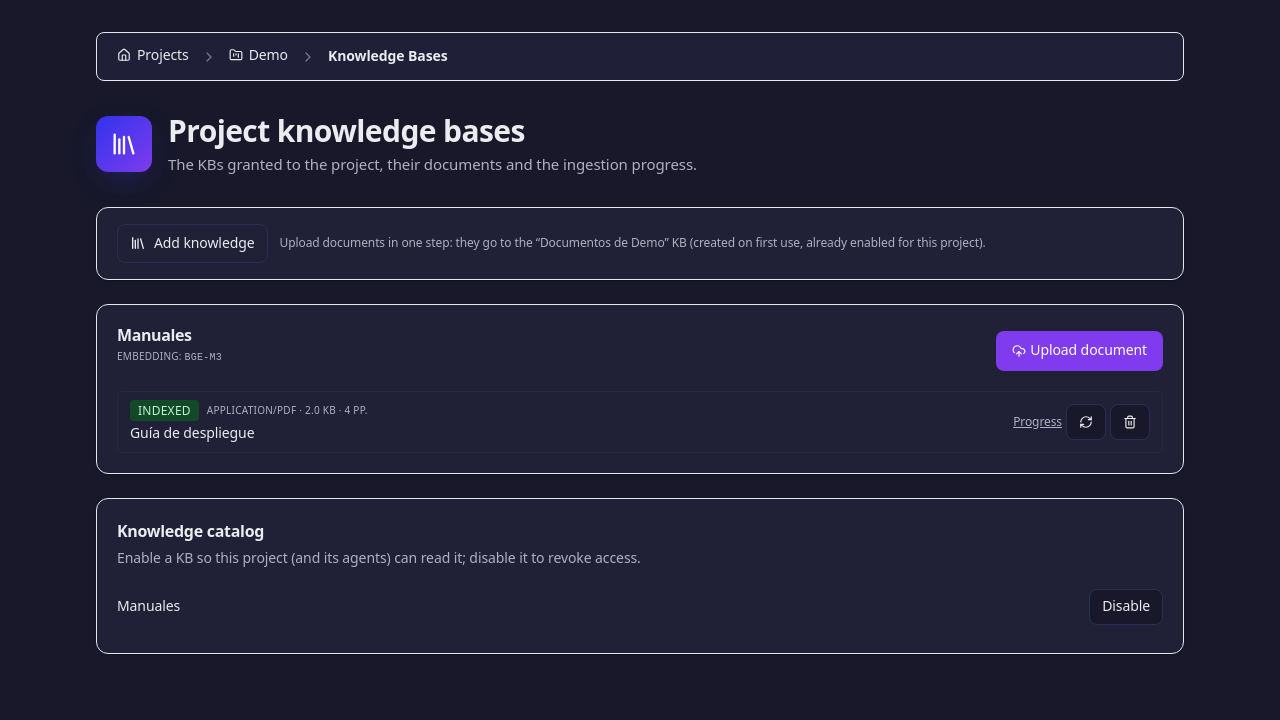
Test: projects/[id]/knowledge-bases — KBs del proyecto › el diálogo de subida se traduce, y el nombre de la KB implícita NO (es un dato)
Expected: the text "“Documentos de Demo” KB" is shown, [280,234,986,251]
Click the button with test id "kb-upload-open-kb-1". click: (1080, 351)
box: [996,331,1163,371]
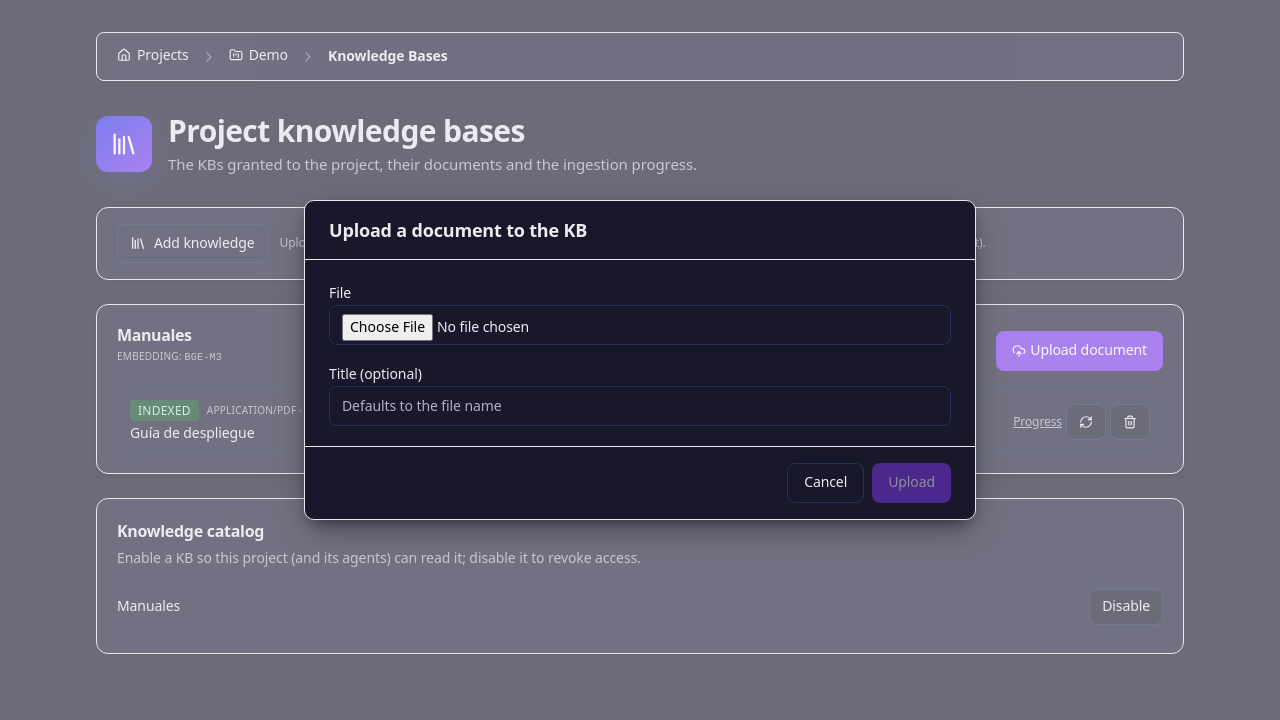
Now the heading "Upload a document to the KB" is shown, box [329,218,587,242]
Now the text "Title (optional)" is shown, box [329,364,422,383]
Now the button with test id "kb-upload-submit" reads "Upload", box [872,463,951,503]
